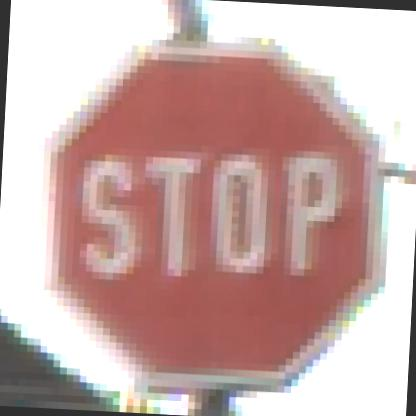stop: (9, 26, 405, 414)
